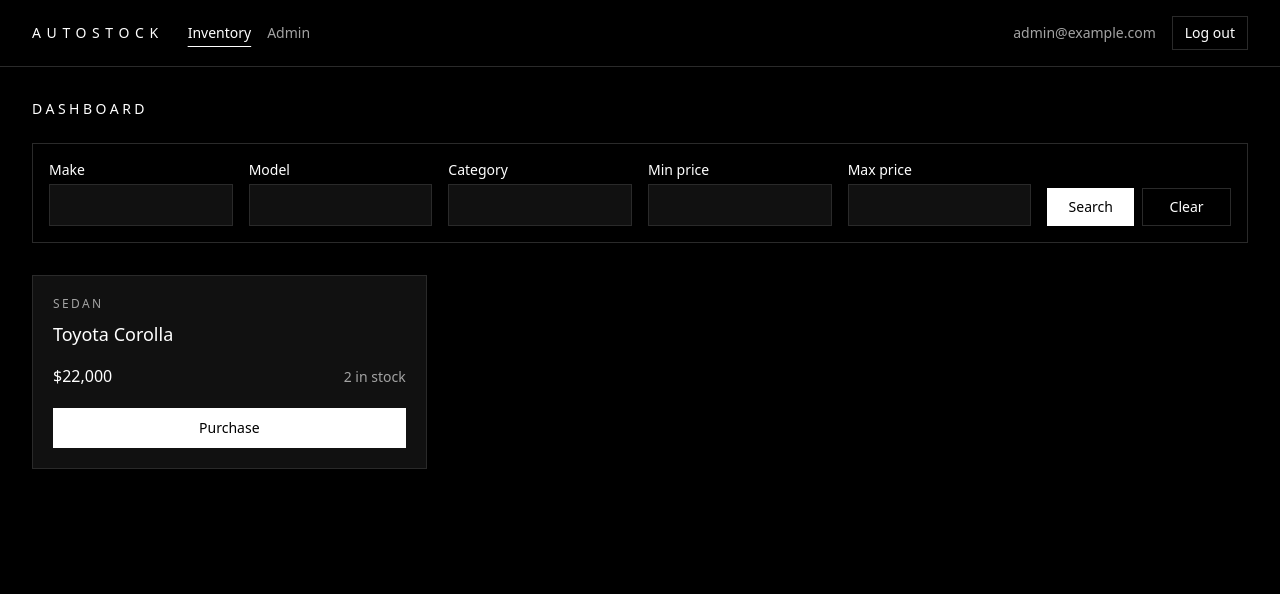
Test: Admin access › admin sees the admin link and panel
This screenshot has width=1280, height=594.
Expected: the element "Toyota Corolla" is shown, [32,275,427,469]
Click the link "Admin".
click(289, 33)  # box [267,23,310,43]
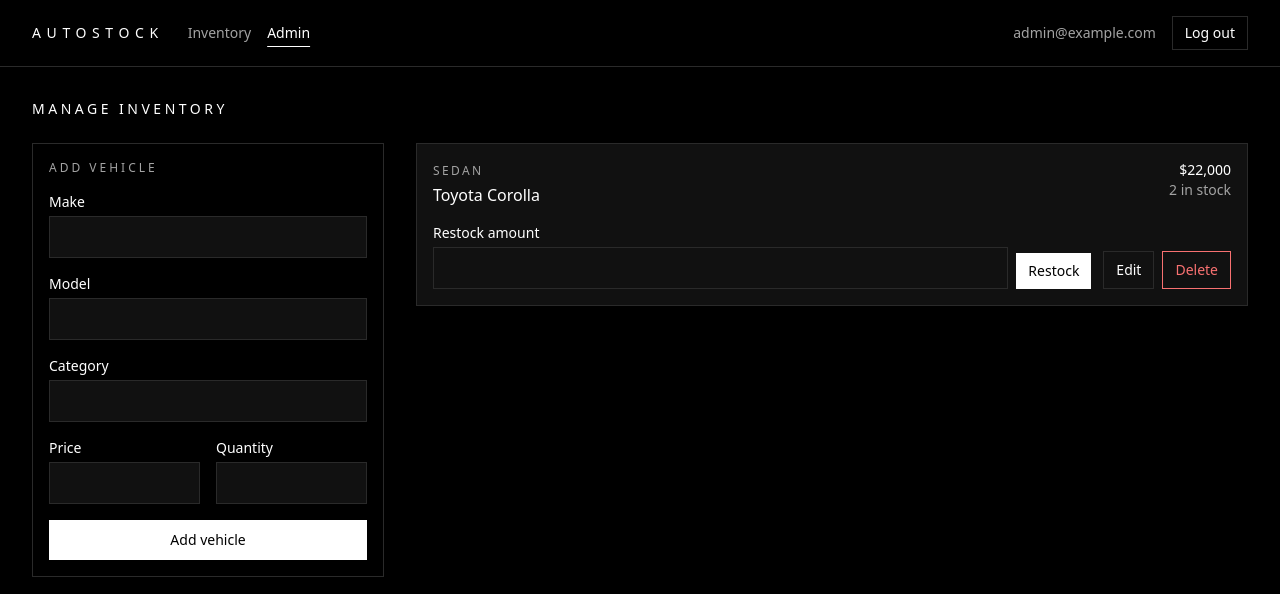
Now the heading "Manage inventory" is shown, box [32,99,228,118]
Now the element "Toyota Corolla" is shown, box [416,143,1248,306]
